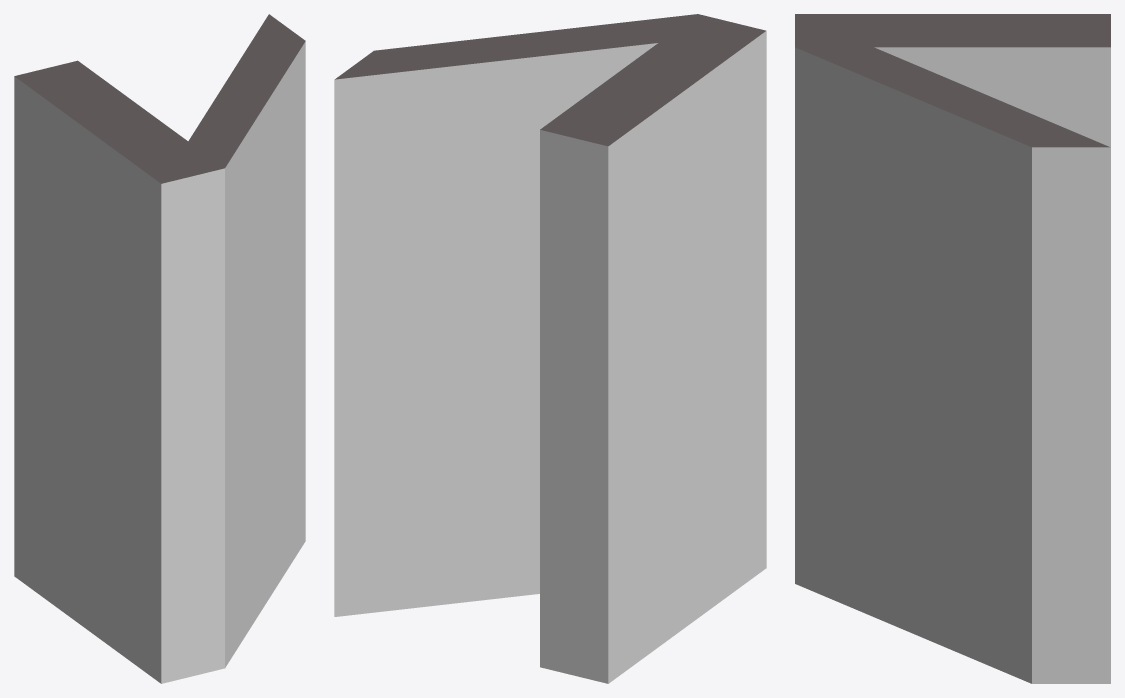
The picture shows the model from 3 angles, left to right: view 1: azimuth 30°, elevation 25°; view 2: azimuth 150°, elevation 25°; view 3: azimuth 270°, elevation 25°; orthographic projection. The views are drawn at different scales.
Size of the model in its own units: 128 by 240 by 128.
1 material, 1 textured.
